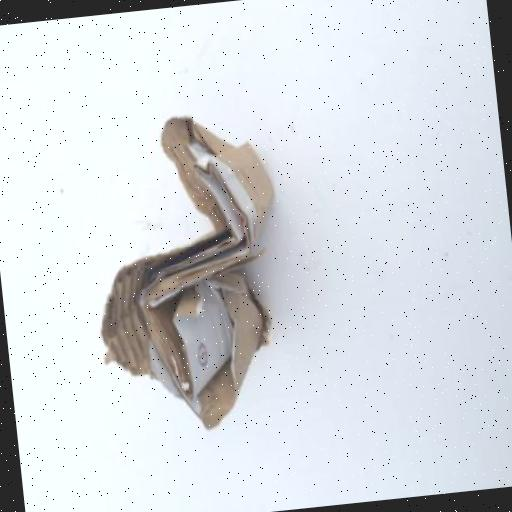cardboard: (76, 106, 296, 436)
